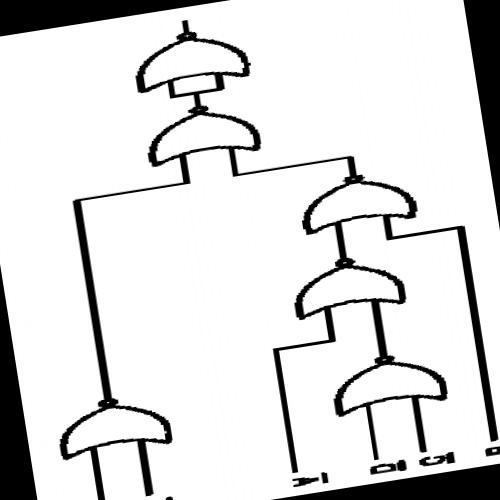nor: (132, 92, 270, 173), (320, 343, 458, 423), (289, 162, 426, 241), (122, 19, 256, 98), (48, 386, 180, 465), (284, 246, 414, 324)
